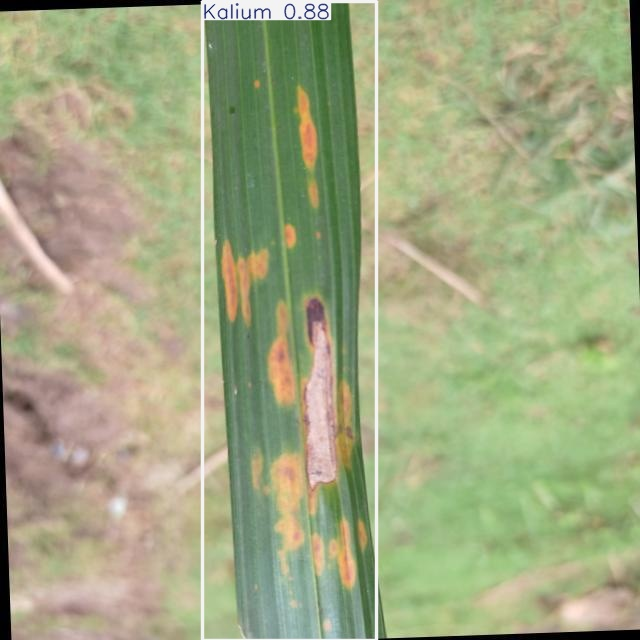Kalium: (202, 1, 377, 640)
